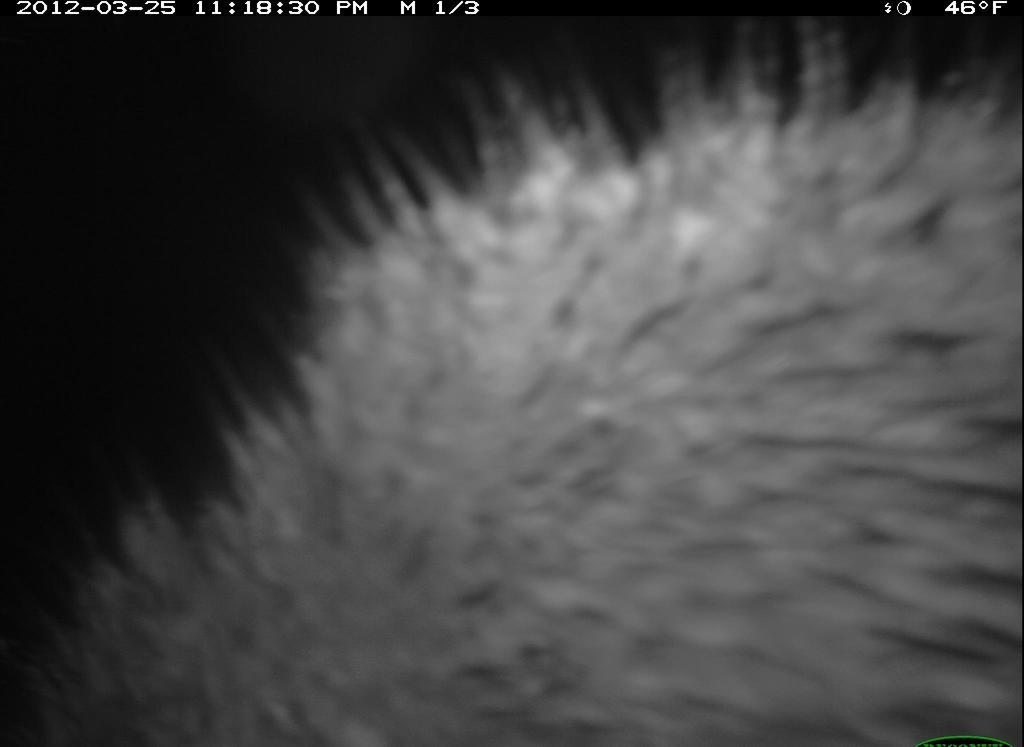raccoon: (4, 35, 1019, 738)
